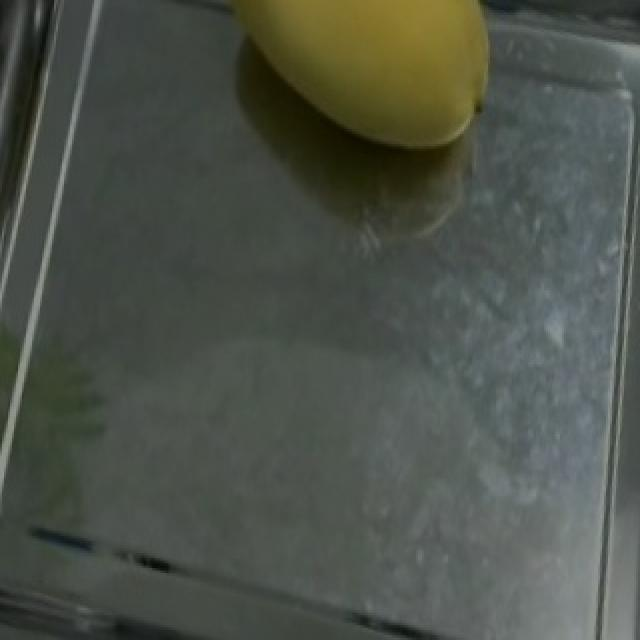fruit: (198, 0, 510, 174)
